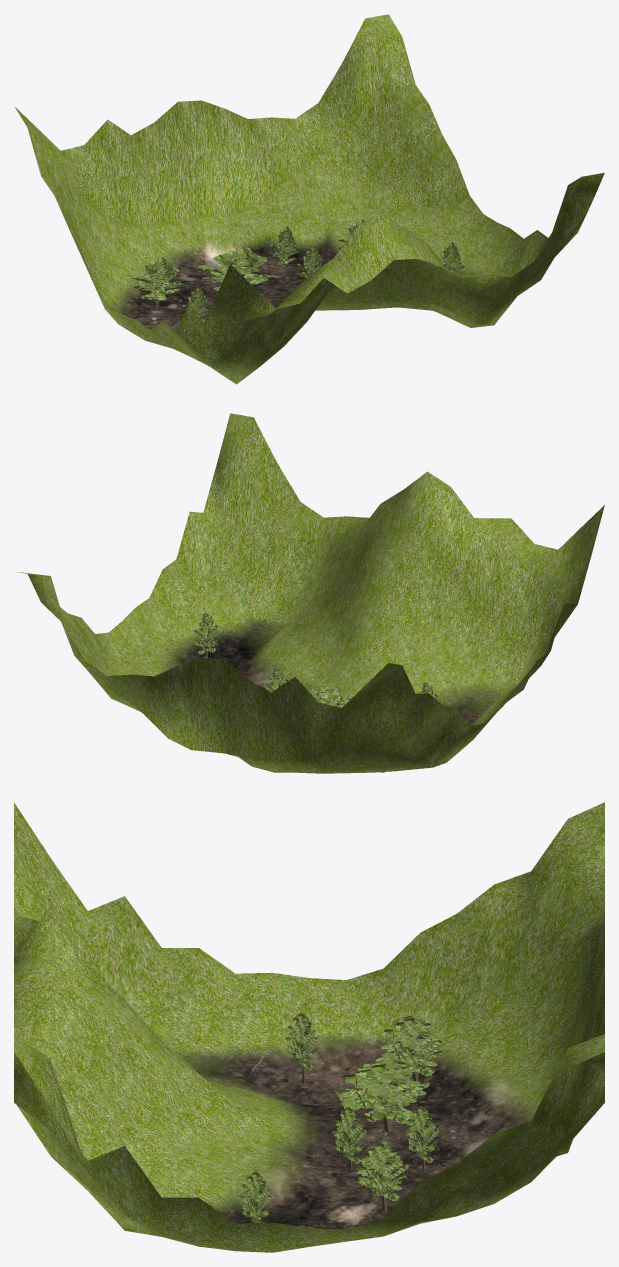
File: outdoor.dae
3 renders of one model, top to bottom at view 1: azimuth 30°, elevation 25°; view 2: azimuth 150°, elevation 25°; view 3: azimuth 270°, elevation 25°, orthographic. The views are drawn at different scales.
Visible parts, largest first — view 1: Plane, node.003, node.004, node.008; view 2: Plane, node.007, node.003; view 3: Plane, node.003, node.004, node.006, node.005, node.008, node.001, node.007.
Boxes of the visible parts, bbox=[...] form: Plane: bbox=[14, 14, 604, 384]; node.003: bbox=[198, 247, 277, 291]; node.004: bbox=[129, 257, 186, 309]; node.008: bbox=[270, 226, 299, 275]; Plane: bbox=[15, 413, 604, 773]; node.007: bbox=[193, 612, 217, 657]; node.003: bbox=[308, 682, 350, 707]; Plane: bbox=[14, 802, 604, 1252]; node.003: bbox=[334, 1056, 430, 1132]; node.004: bbox=[378, 1014, 446, 1081]; node.006: bbox=[354, 1141, 408, 1211]; node.005: bbox=[285, 1012, 318, 1083]; node.008: bbox=[405, 1105, 439, 1171]; node.001: bbox=[332, 1106, 366, 1170]; node.007: bbox=[239, 1171, 273, 1222].
Size of the model in its own units: 30 by 30 by 14.04.
Materials: 3 (3 with a texture image).
